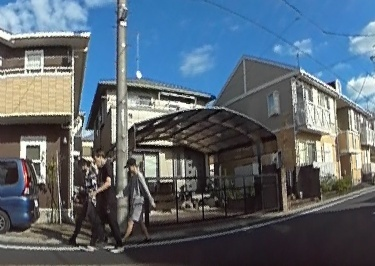person: (93, 148, 119, 257), (67, 159, 97, 248), (123, 159, 150, 243)
